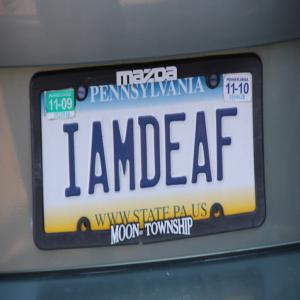Vehicle-registration-plate: (30, 51, 267, 252)
